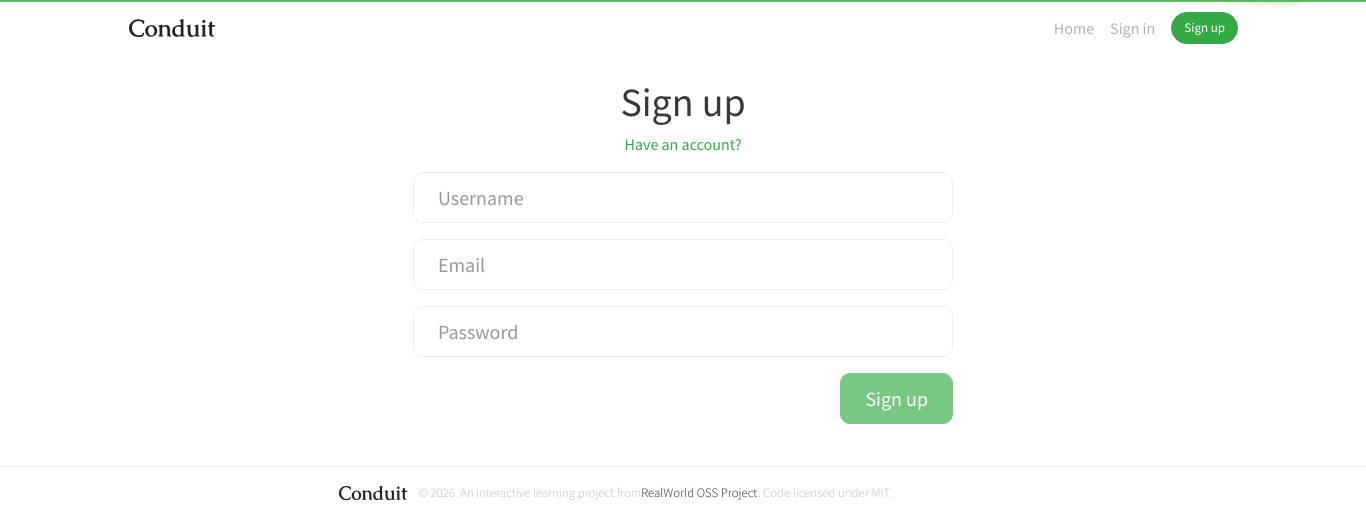
Test: enables submit button when all fields populated
Expected: the button "Sign up" is disabled, x1=840 y1=373 x2=953 y2=424
Type "some_username" into the field with placeholder "Username" at (683, 198), box x1=413 y1=172 x2=953 y2=223
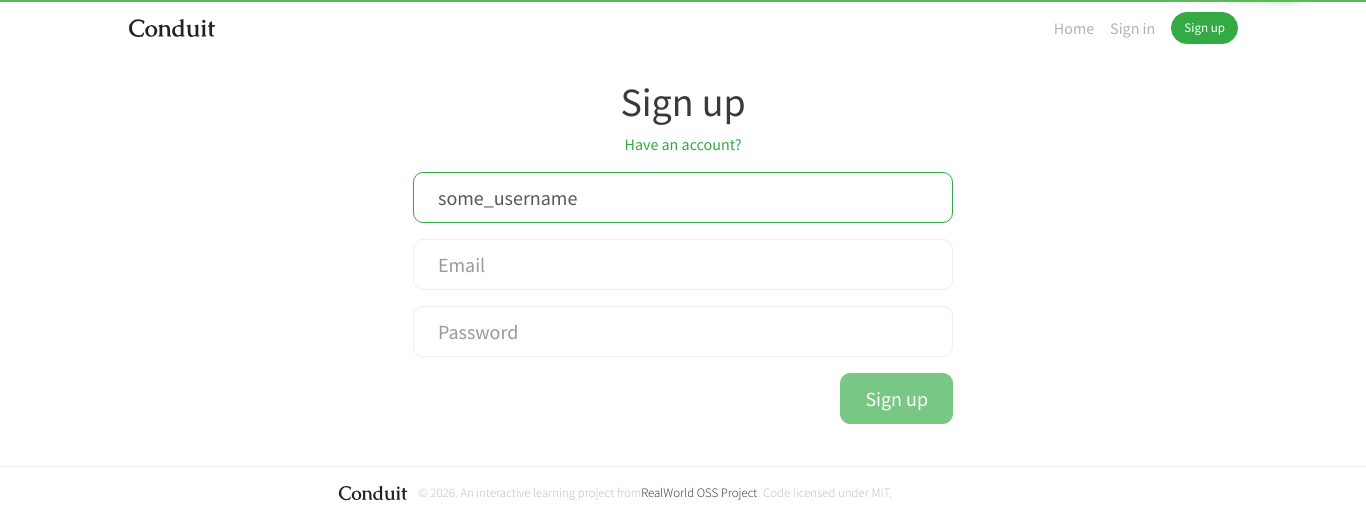
Type "some_email" into the field with placeholder "Email" at (683, 264), box x1=413 y1=239 x2=953 y2=290
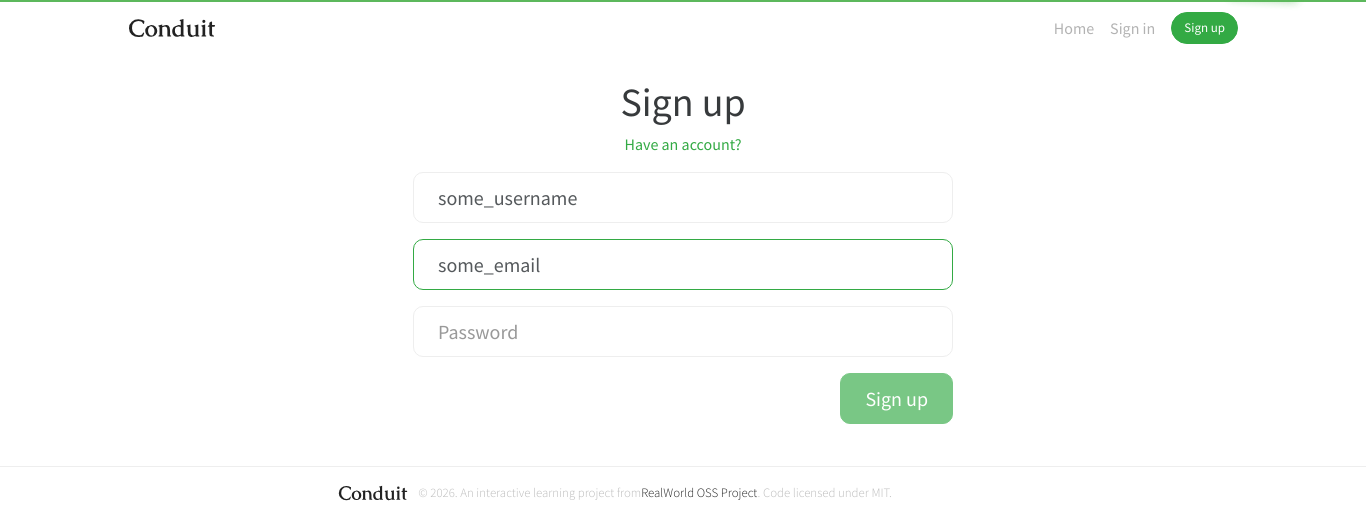
Type "some_password" into the password field with placeholder "Password" at (683, 332), box x1=413 y1=306 x2=953 y2=357
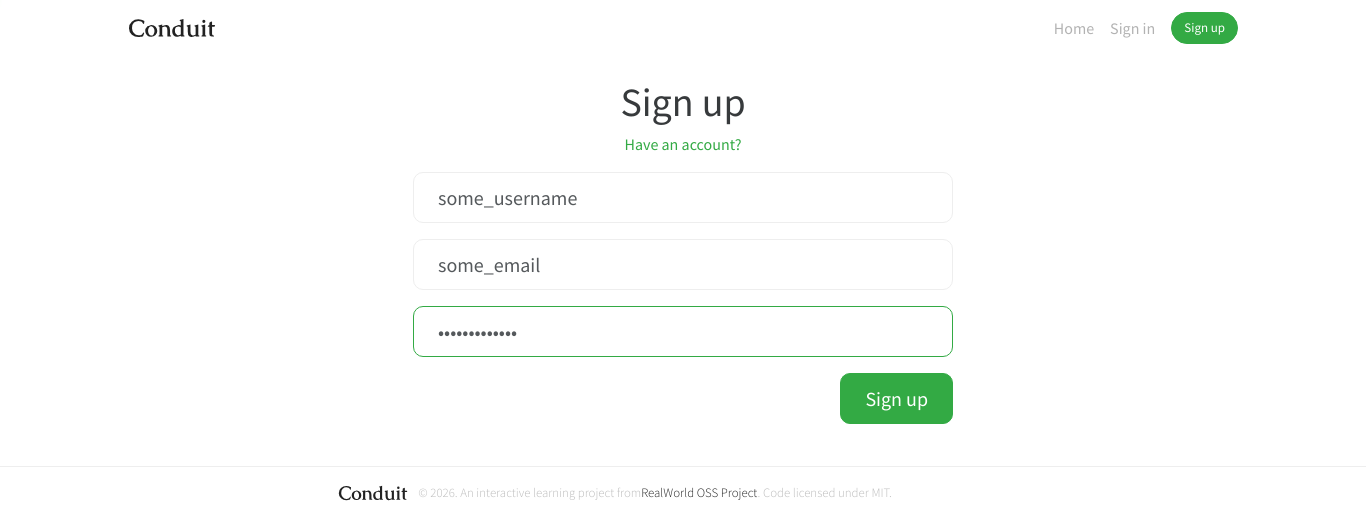
Now the button "Sign up" is enabled, box x1=840 y1=373 x2=953 y2=424
